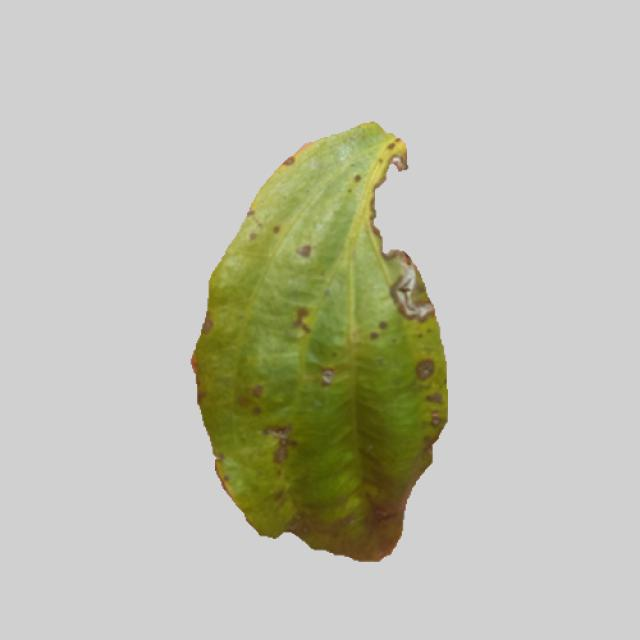yellow-mottle-virus: (178, 129, 457, 561)
